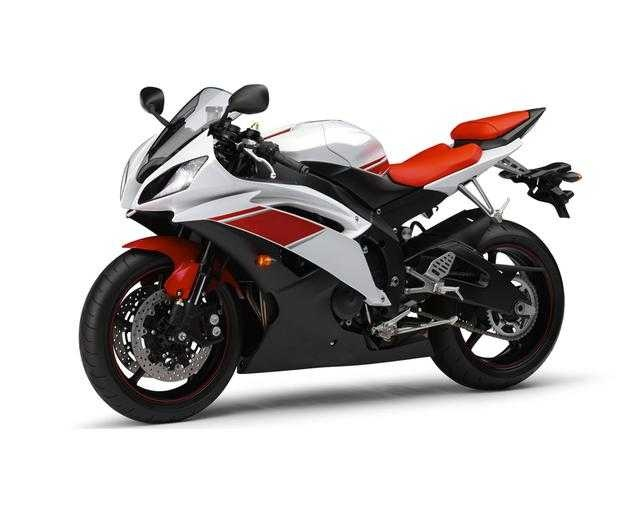motorbike: (77, 86, 586, 424)
